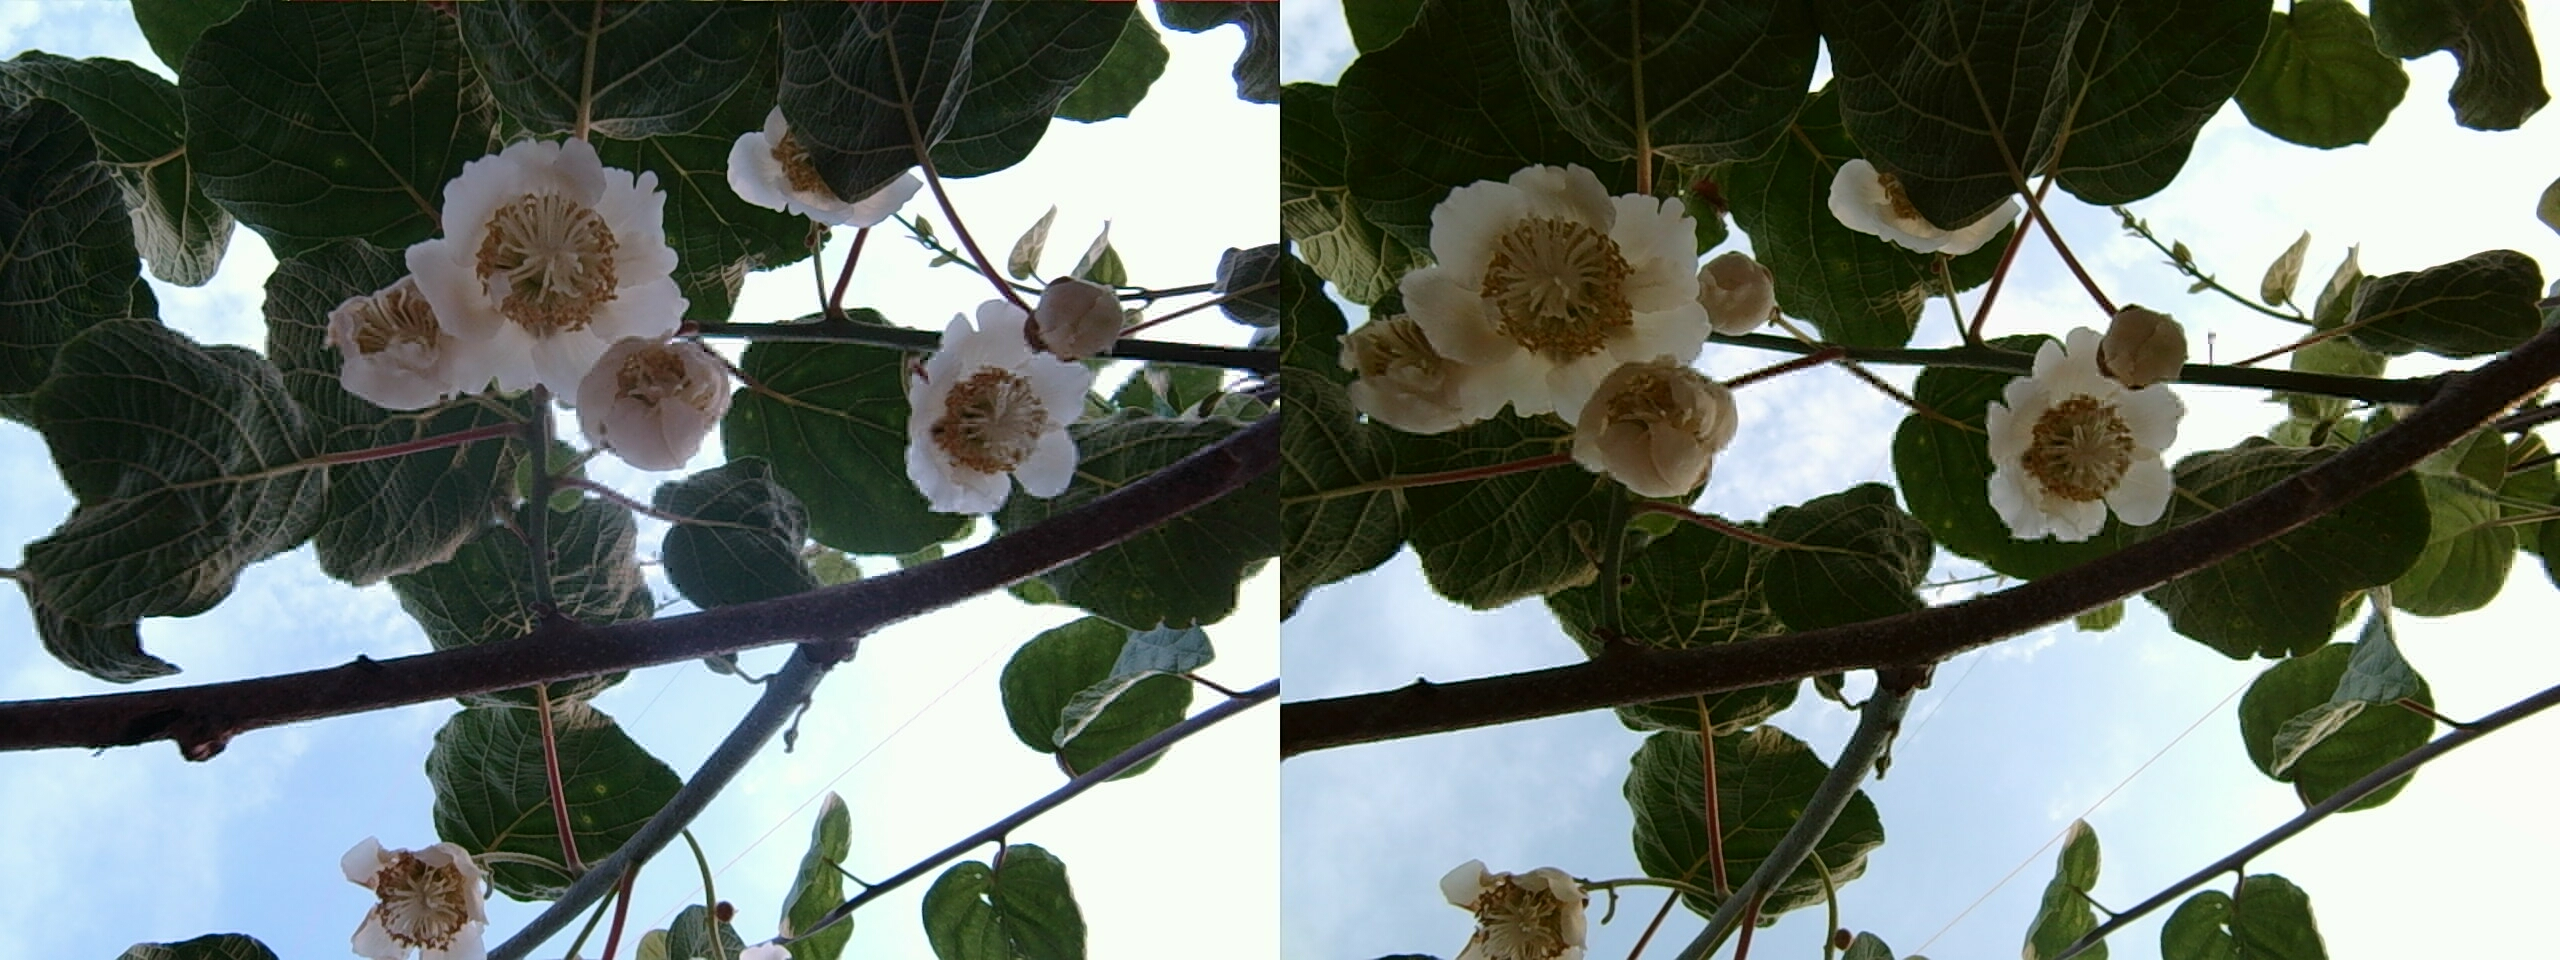flower: (1394, 153, 1719, 403), (390, 127, 674, 369), (1974, 318, 2184, 542), (895, 299, 1099, 511), (1572, 349, 1739, 503), (563, 325, 744, 465), (331, 264, 498, 398), (333, 833, 495, 950), (1438, 859, 1603, 953)
